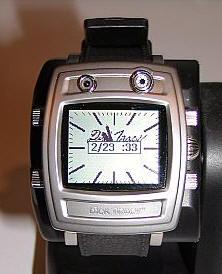pen: (28, 16, 206, 274)
